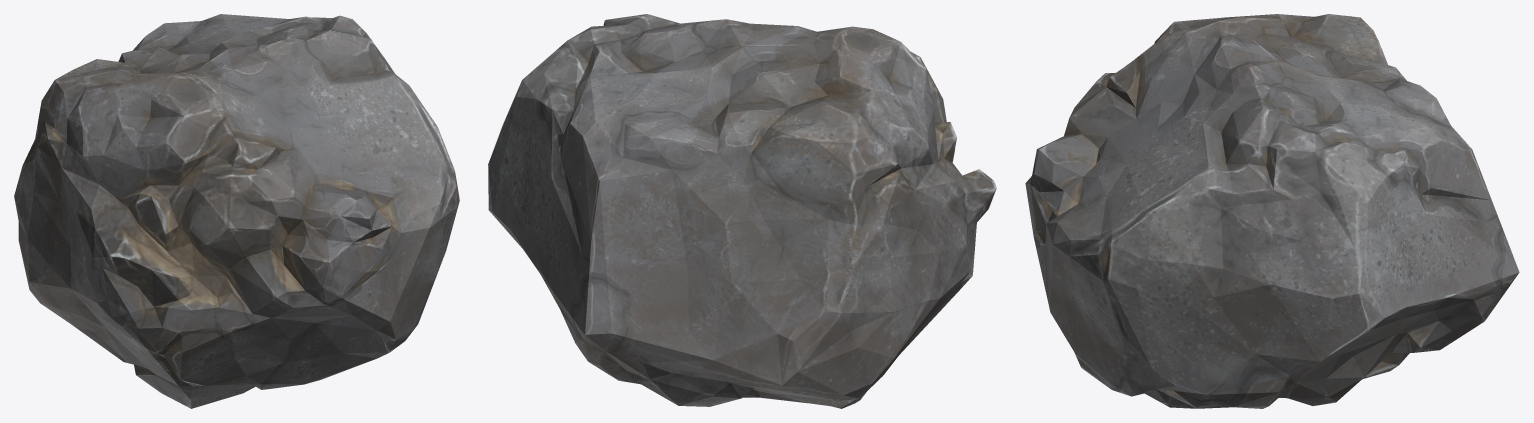
The model's file is rock_02.glb.
3 views of the same model, side by side, from view 1: azimuth 30°, elevation 25°; view 2: azimuth 150°, elevation 25°; view 3: azimuth 270°, elevation 25° (orthographic). The views are drawn at different scales.
Visible parts, largest first — view 1: rock_low.002_Group58368.002; view 2: rock_low.002_Group58368.002; view 3: rock_low.002_Group58368.002.
Boxes of the visible parts, box(x1,y1,x2,y2) form: rock_low.002_Group58368.002: box(14, 14, 459, 408); rock_low.002_Group58368.002: box(488, 14, 996, 408); rock_low.002_Group58368.002: box(1025, 14, 1519, 408).
Bounding box in the file's own units: 1.78 × 1.51 × 1.96.
Materials: 1 (1 with a texture image).
